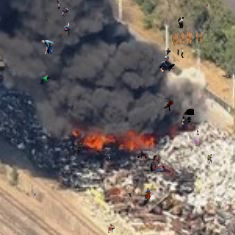Human: (161, 99, 194, 115), (44, 0, 69, 21), (172, 31, 203, 46), (150, 155, 171, 174), (159, 56, 176, 78), (125, 187, 153, 200), (36, 40, 54, 54), (179, 116, 192, 133), (38, 75, 55, 87), (192, 137, 205, 148), (62, 22, 70, 37), (73, 143, 83, 155), (137, 151, 149, 159), (177, 48, 184, 58), (108, 224, 115, 234), (178, 17, 184, 28), (222, 72, 232, 78), (207, 154, 213, 164), (166, 48, 171, 55), (137, 86, 146, 89), (33, 193, 36, 199), (206, 4, 208, 9), (197, 130, 199, 135), (108, 156, 110, 161)
